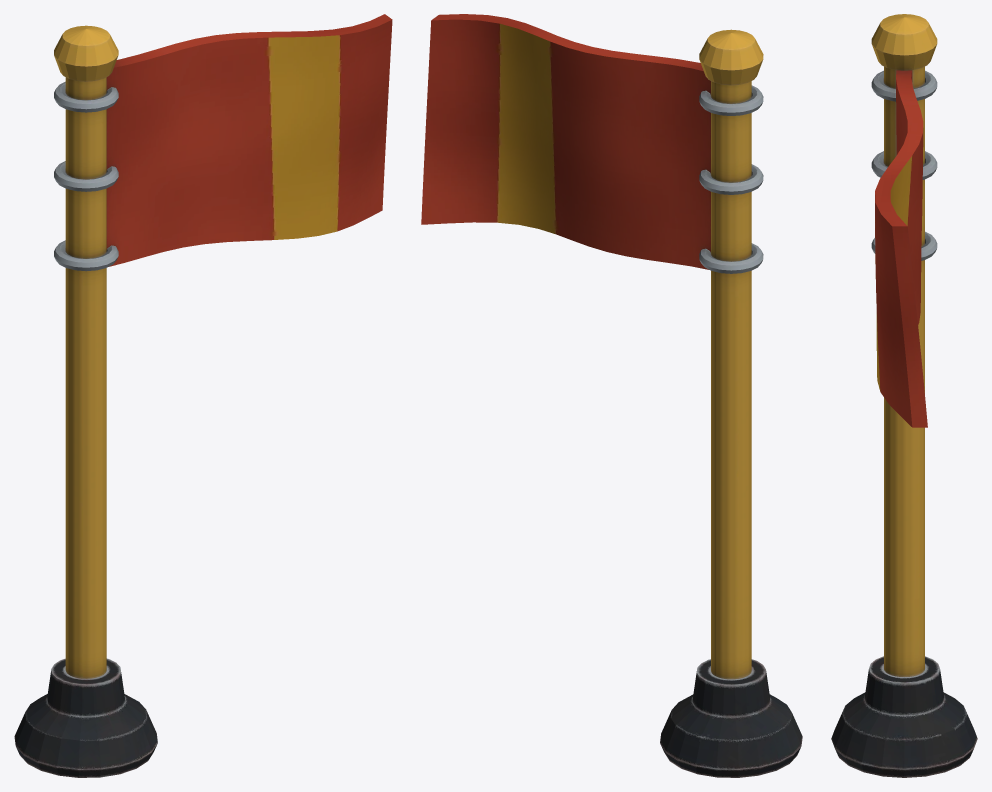
File: flag-v001.glb
3 renders of one model, left to right at view 1: azimuth 30°, elevation 25°; view 2: azimuth 150°, elevation 25°; view 3: azimuth 270°, elevation 25°, orthographic. The views are drawn at different scales.
Parts seen in each view (by area): view 1: Flag; view 2: Flag; view 3: Flag.
Boxes of the visible parts, x1=… form: Flag: x1=14, y1=14, x2=392, y2=777; Flag: x1=421, y1=14, x2=802, y2=777; Flag: x1=831, y1=14, x2=977, y2=777.
Bounding box in the file's own units: 0.383 × 0.727 × 0.132.
1 material, 1 textured.
